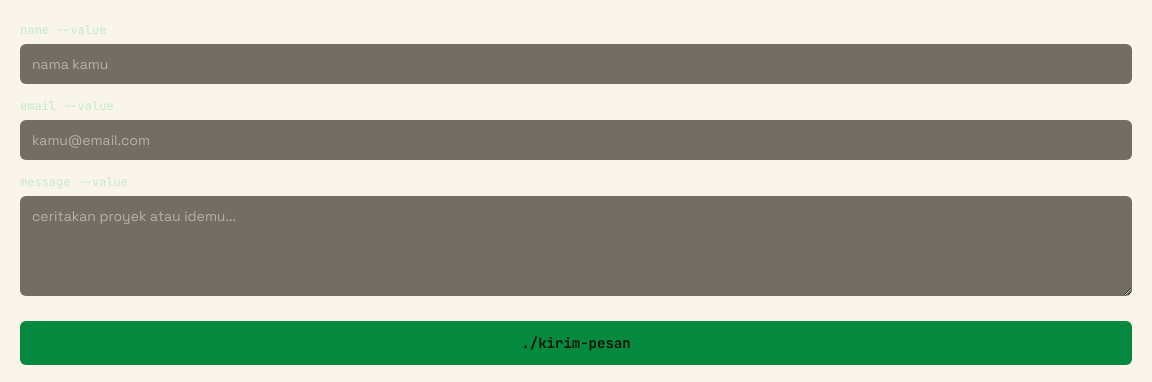
Test: ContactForm › announces the handoff and offers a manual fallback link
Type "Budi" into the field labelled "name --value" at (576, 64), box [20, 44, 1132, 84]
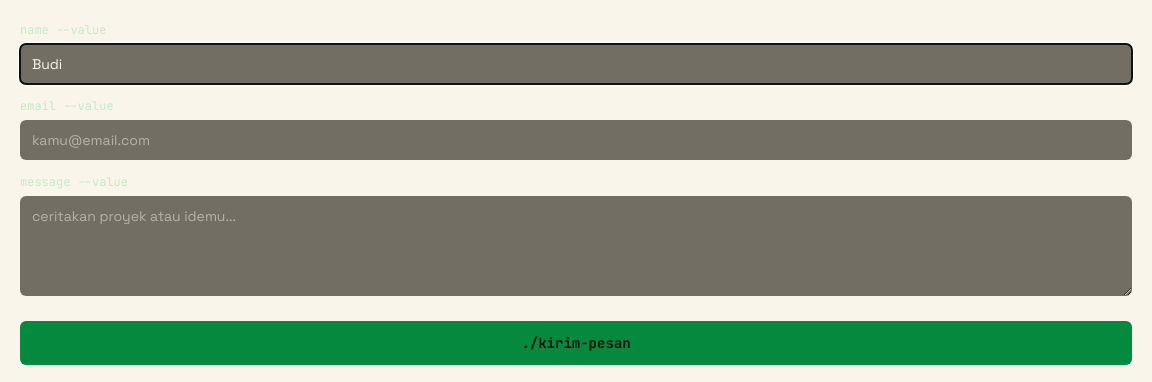
Type "budi@example.com" into the field labelled "email --value" at (576, 140), box [20, 120, 1132, 160]
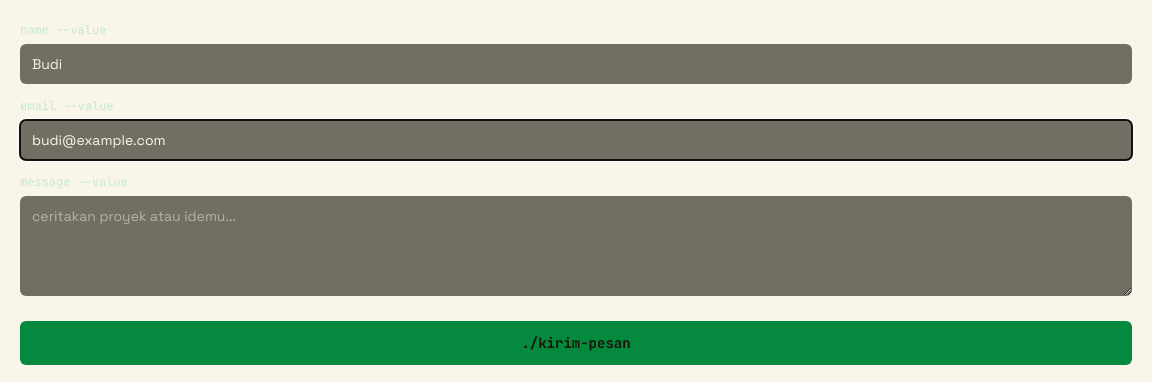
Type "Halo!" into the text box labelled "message --value" at (576, 246), box [20, 196, 1132, 296]
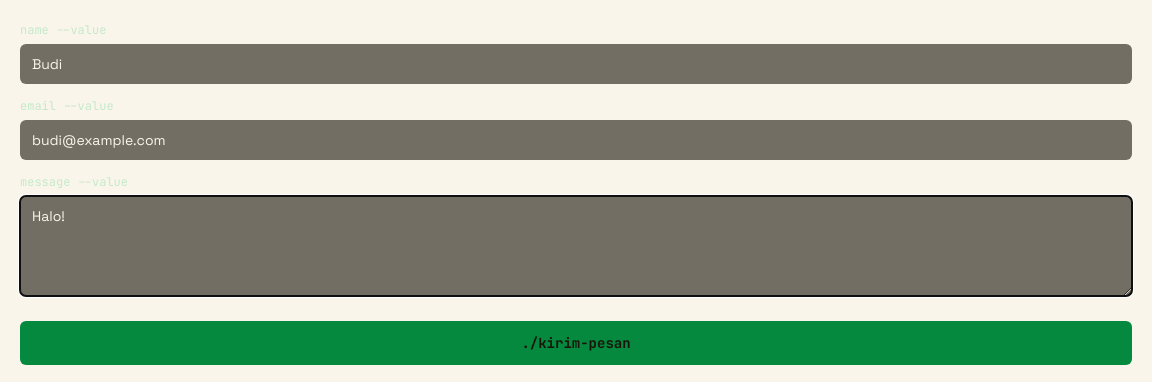
Click the button "./kirim-pesan" at (576, 343), box [20, 321, 1132, 365]
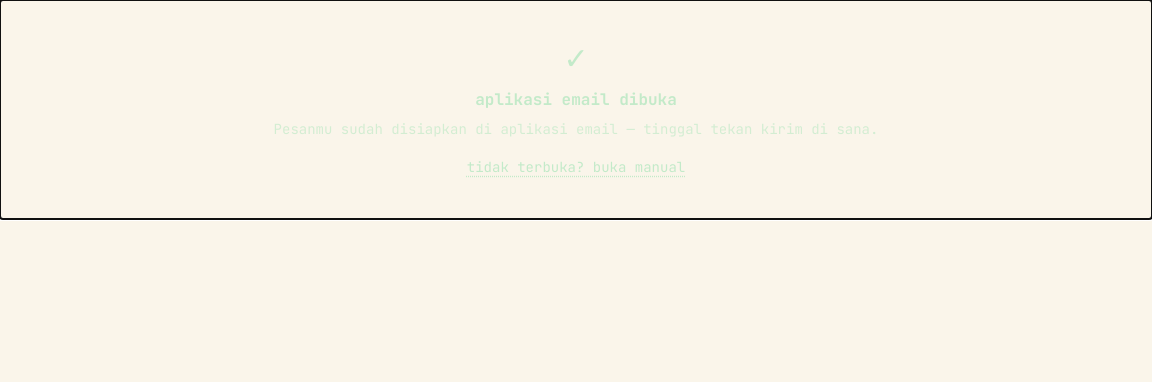
Expected: the message shows "aplikasi email dibuka", [475, 89, 677, 110]
